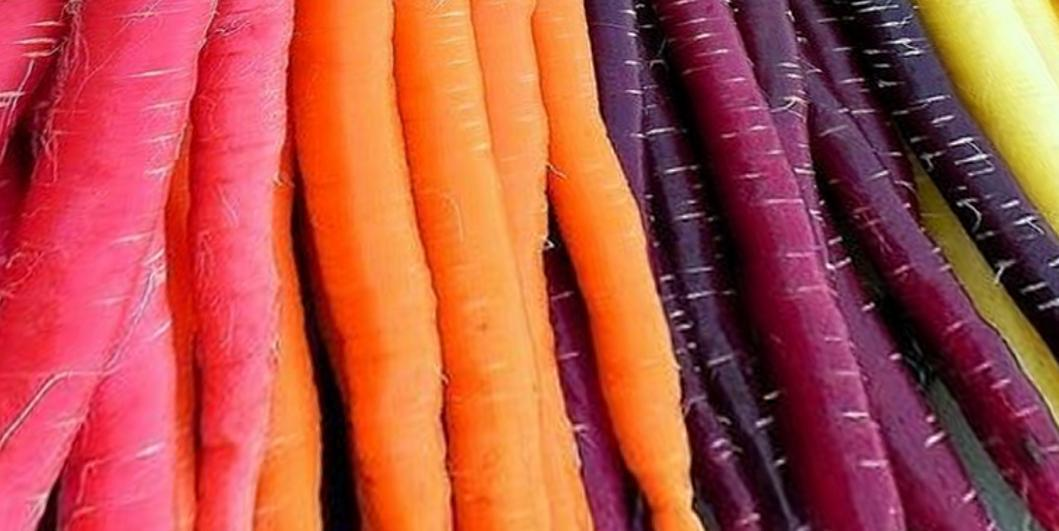carrot: (329, 17, 679, 531), (297, 4, 458, 531)
